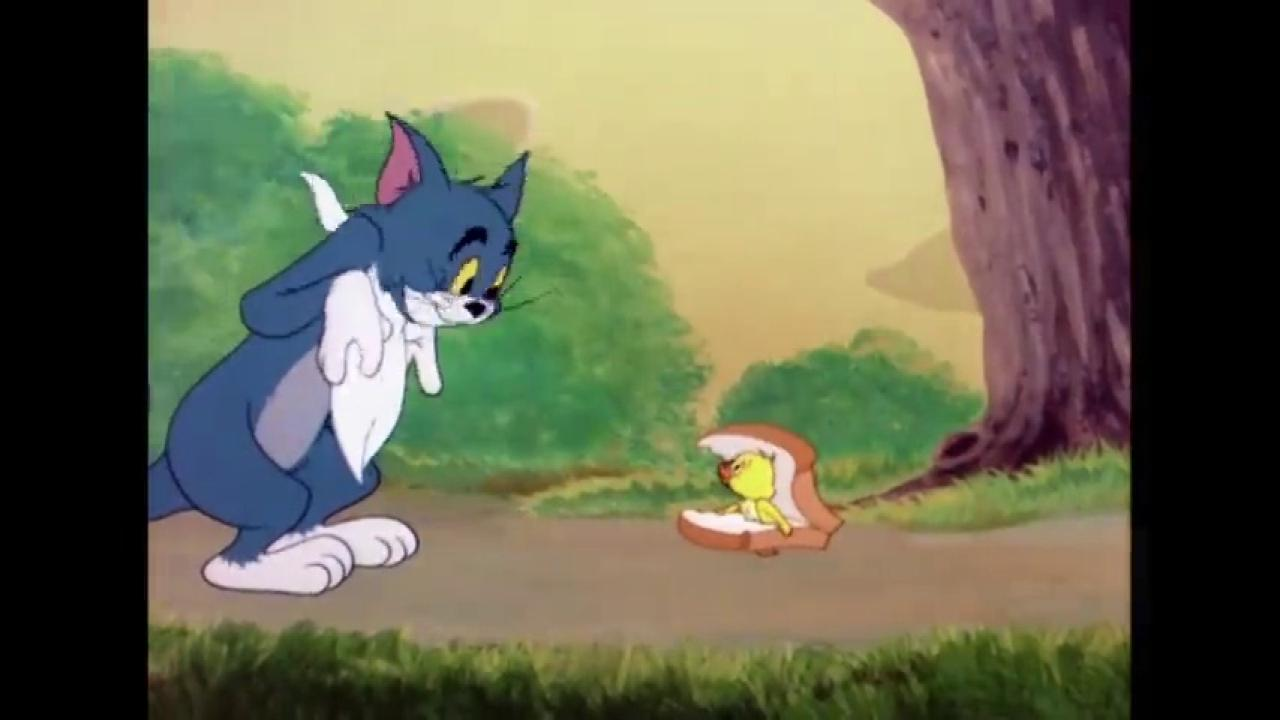Tom: (150, 109, 531, 598)
